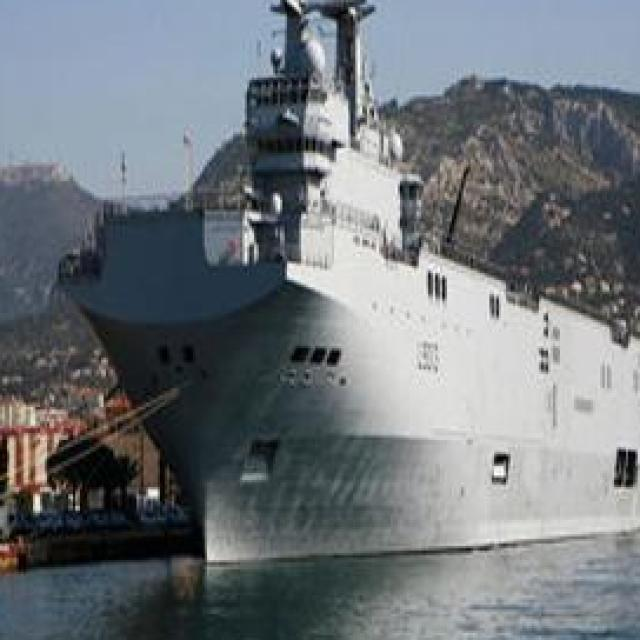navalvessels: (84, 37, 640, 560)
